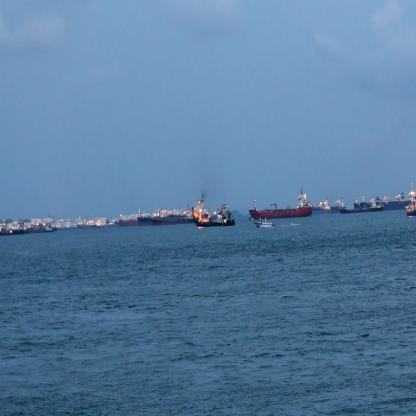Container Ship: (247, 184, 311, 219), (360, 187, 414, 210), (148, 208, 204, 226), (334, 197, 382, 214), (307, 198, 344, 214), (113, 204, 133, 227), (134, 206, 148, 230), (403, 191, 415, 218), (23, 224, 51, 234)
